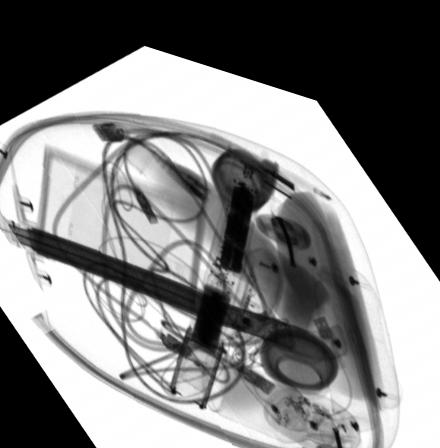Baton: (170, 128, 266, 395)
